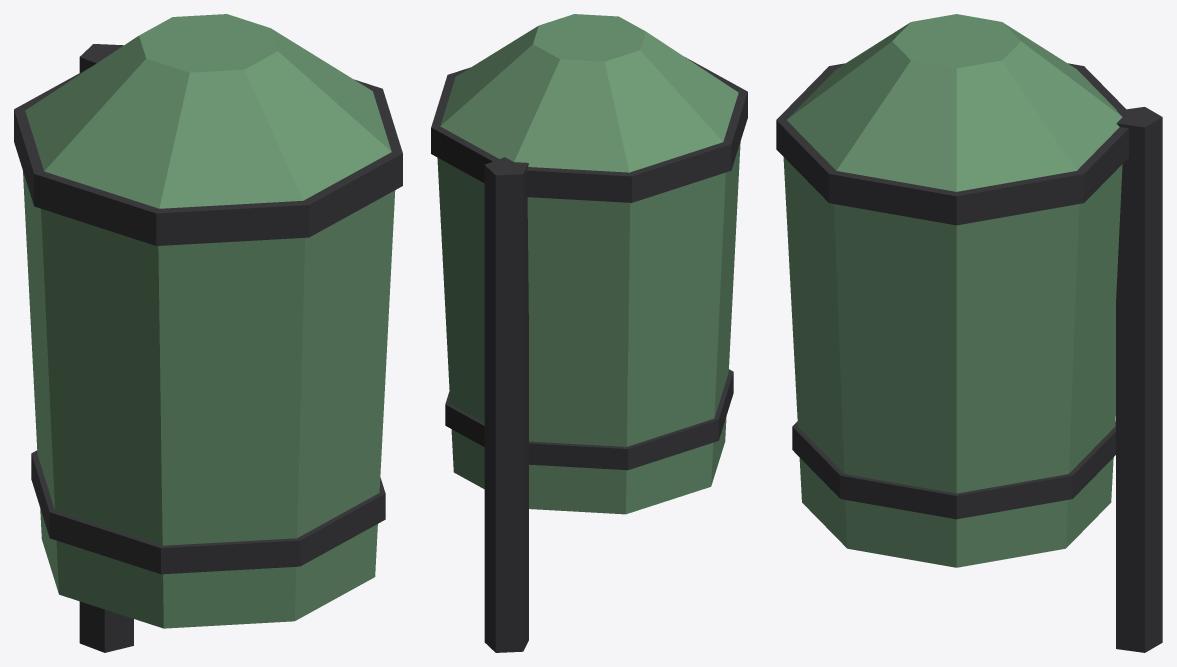
Rendered from street_bin.glb.
The picture shows the model from 3 angles, left to right: view 1: azimuth 30°, elevation 25°; view 2: azimuth 150°, elevation 25°; view 3: azimuth 270°, elevation 25°; orthographic projection. The views are drawn at different scales.
Parts seen in each view (by area): view 1: street_bin; view 2: street_bin; view 3: street_bin.
Part boxes in pixels (left/top/right/bottom): street_bin: left=14, top=14, right=402, bottom=652; street_bin: left=431, top=14, right=747, bottom=652; street_bin: left=776, top=14, right=1162, bottom=652.
Size of the model in its own units: 0.56 by 1.03 by 0.6.
